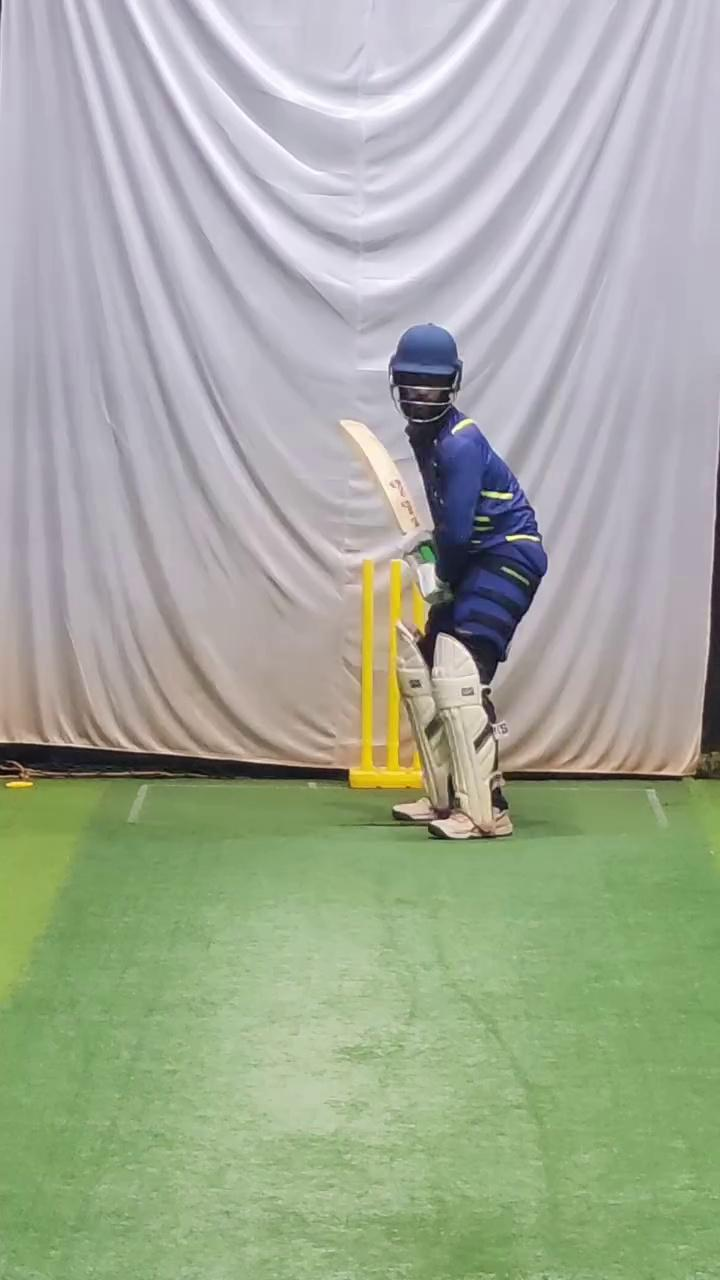bat: (334, 402, 430, 540)
